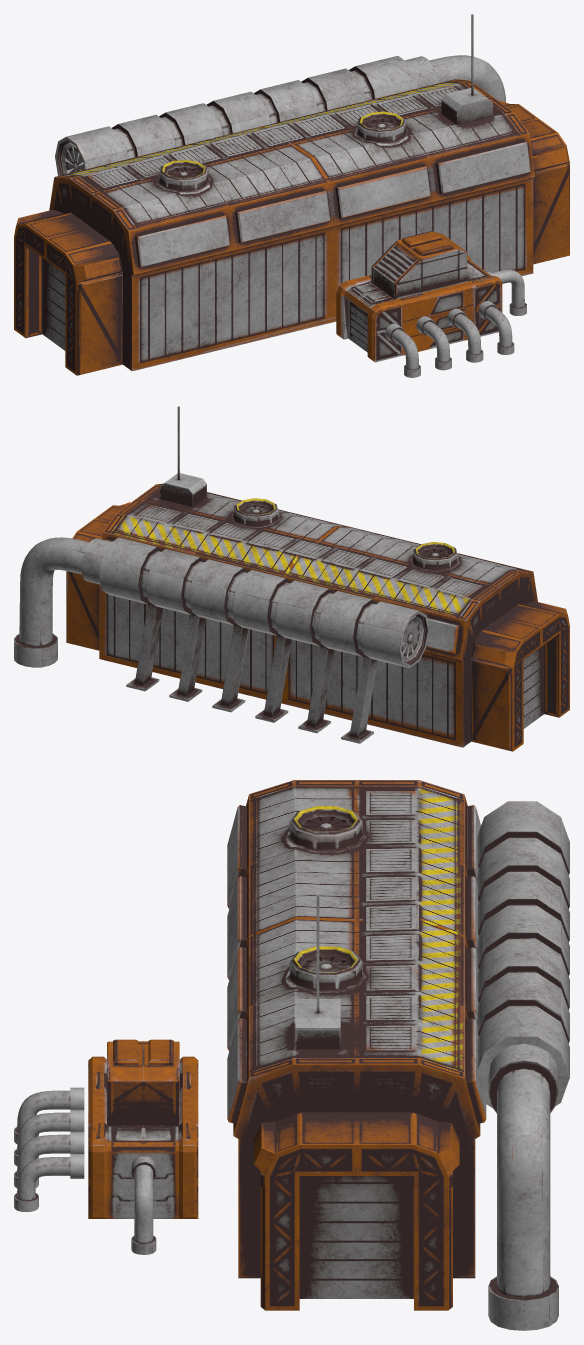
The model's file is Vehicle_Factory.fbx.
3 renders of one model, top to bottom at view 1: azimuth 30°, elevation 25°; view 2: azimuth 150°, elevation 25°; view 3: azimuth 270°, elevation 25°, orthographic. The views are drawn at different scales.
Visible parts, largest first — view 1: Cube.003, Cube.002, Cylinder.006, Plane.003, Plane.005, Plane.004; view 2: Cube.003, Cylinder.006, Plane.005, Cylinder.007; view 3: Cube.003, Cylinder.006, Cube.002, Plane.005, Plane.003, Plane.004.
Part boxes in pixels (left/top/right/bottom): Cube.003: left=14, top=14, right=569, bottom=375; Cube.002: left=336, top=231, right=502, bottom=362; Cylinder.006: left=55, top=56, right=417, bottom=175; Plane.003: left=385, top=301, right=514, bottom=377; Plane.005: left=405, top=55, right=505, bottom=102; Plane.004: left=486, top=270, right=526, bottom=315; Cube.003: left=66, top=406, right=569, bottom=751; Cylinder.006: left=99, top=537, right=428, bottom=743; Plane.005: left=14, top=537, right=111, bottom=667; Cylinder.007: left=401, top=620, right=419, bottom=656; Cube.003: left=227, top=780, right=486, bottom=1310; Cylinder.006: left=476, top=801, right=569, bottom=1107; Cube.002: left=88, top=1039, right=198, bottom=1218; Plane.005: left=488, top=1043, right=558, bottom=1330; Plane.003: left=14, top=1087, right=84, bottom=1212; Plane.004: left=131, top=1156, right=156, bottom=1254.
Bounding box in the file's own units: 957 × 439 × 608.
